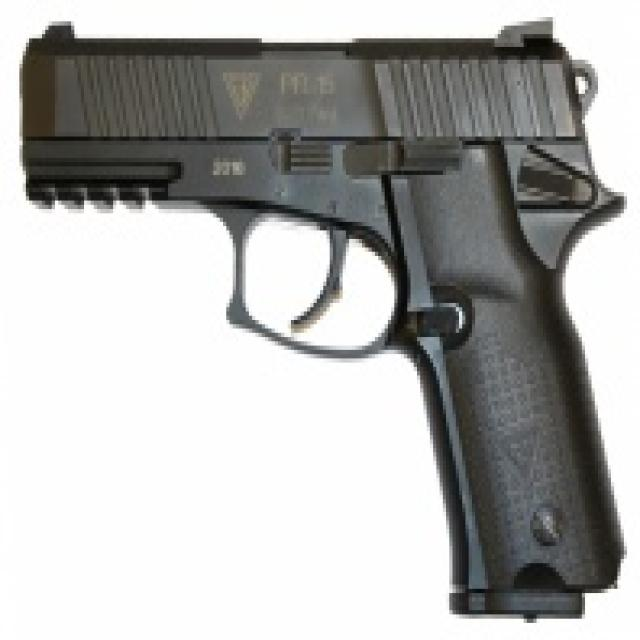pistol: (18, 8, 639, 633)
